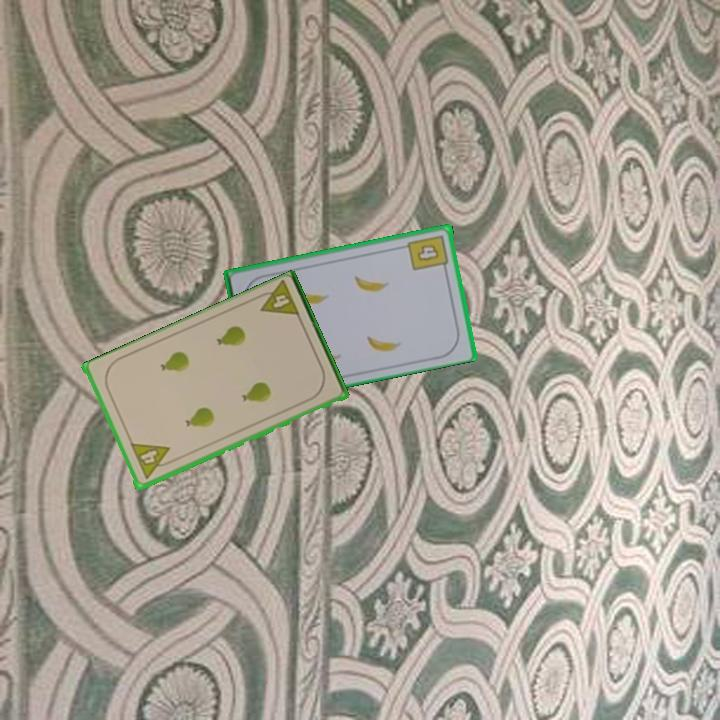4b: (405, 231, 452, 274)
4p: (251, 278, 303, 321), (127, 440, 177, 483)
